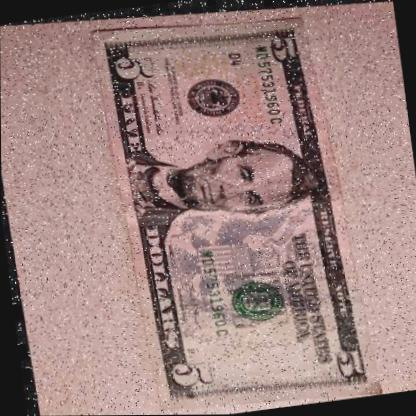vef_front: (87, 0, 379, 415)
